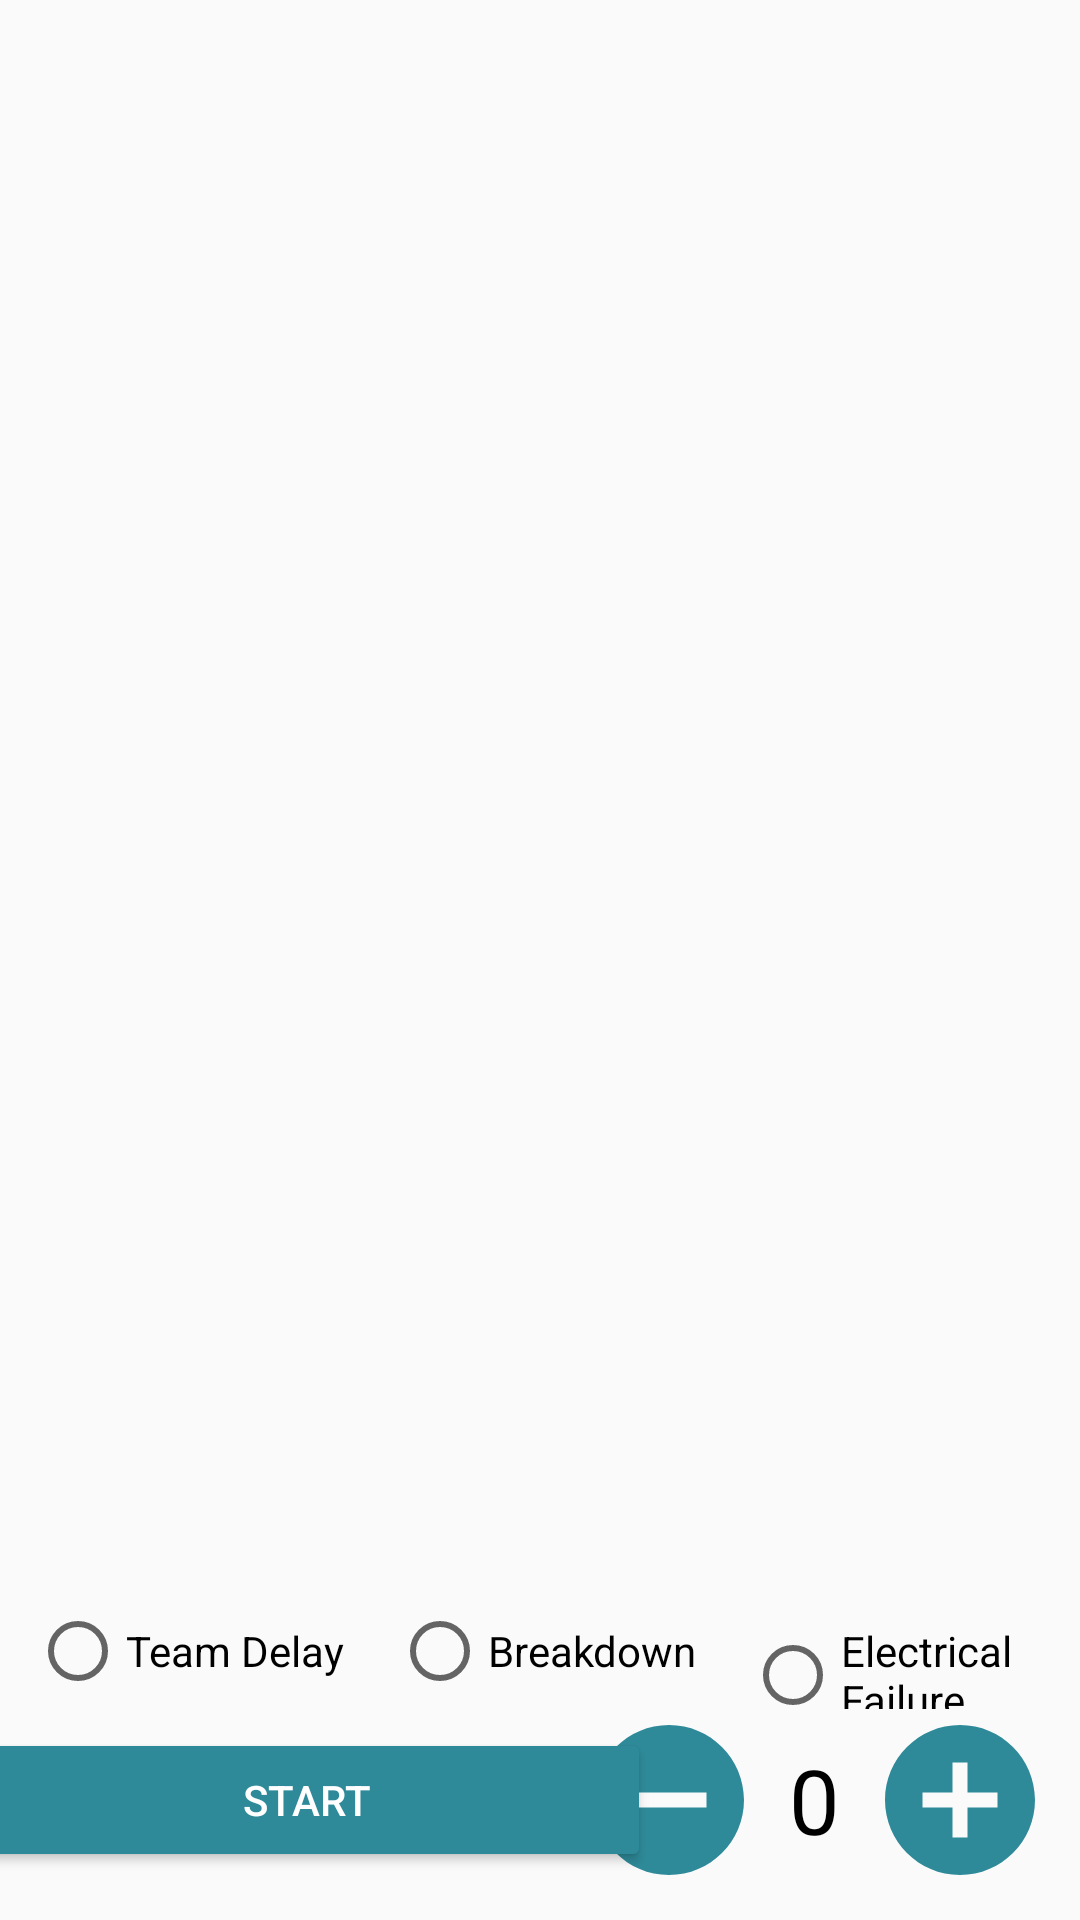

Screen size 1080x1920. Icon name, then its box in pixels as (x1, y1, x2, y2):
add cercle: (885, 1725, 1035, 1875)
